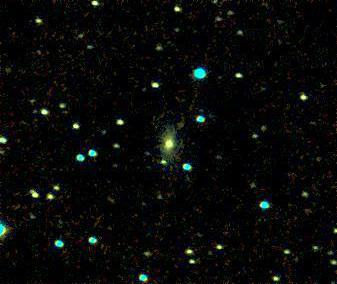star: (166, 110, 196, 140)
